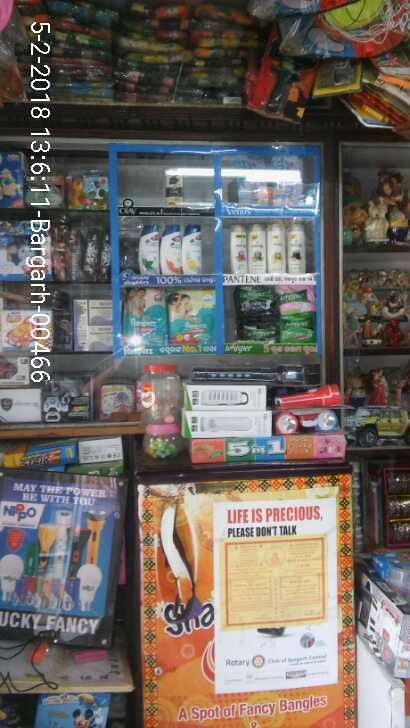venus: (237, 154, 270, 207), (270, 156, 303, 207)
